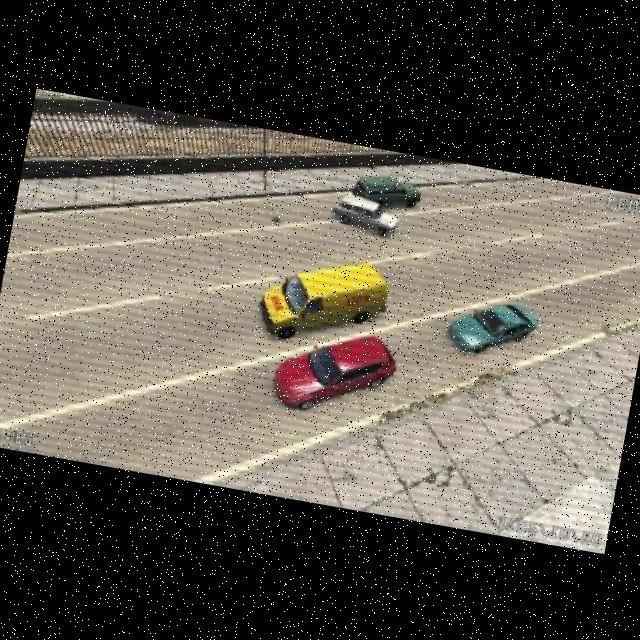accident: (329, 165, 426, 251)
